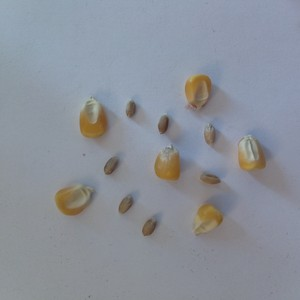maiz: (50, 179, 95, 217), (77, 94, 109, 142), (179, 72, 216, 113), (190, 201, 227, 241), (234, 131, 267, 175), (153, 142, 184, 185)
trigo: (201, 121, 219, 147), (197, 171, 223, 189), (102, 154, 120, 179), (116, 191, 134, 215), (155, 111, 171, 136), (141, 215, 157, 240), (124, 98, 139, 121)
